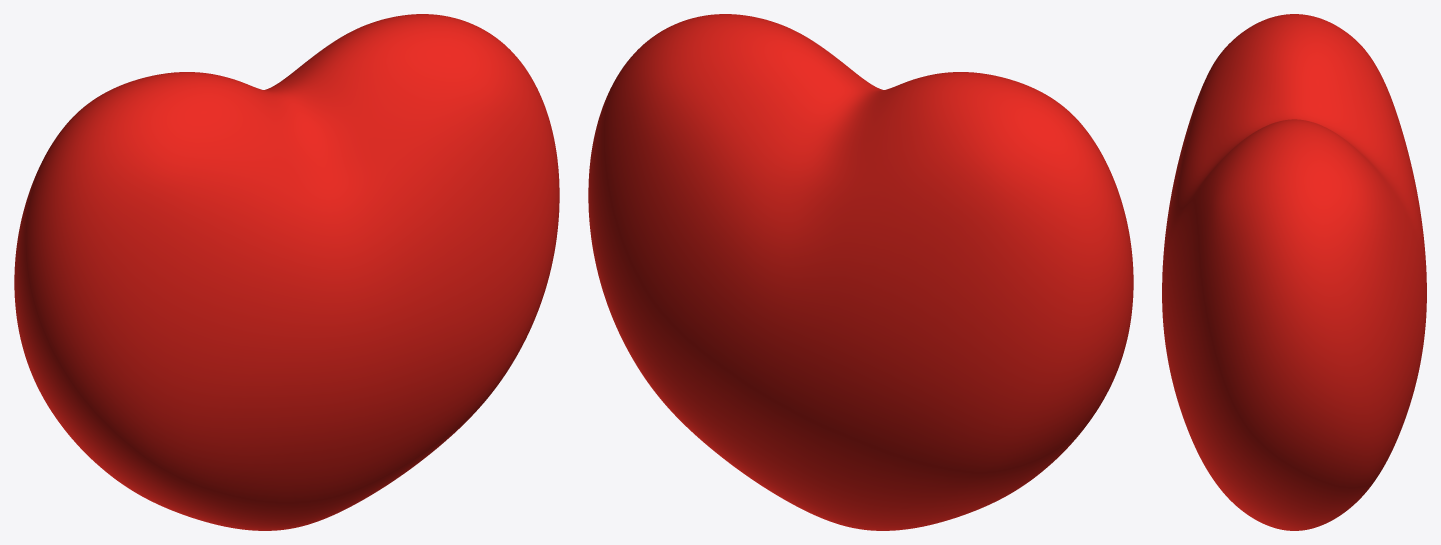
File: heart.glb
The picture shows the model from 3 angles, left to right: view 1: azimuth 30°, elevation 25°; view 2: azimuth 150°, elevation 25°; view 3: azimuth 270°, elevation 25°; orthographic projection. The views are drawn at different scales.
Parts seen in each view (by area): view 1: Heart; view 2: Heart; view 3: Heart.
Boxes of the visible parts, box(x1,y1,x2,y2) form: Heart: box(14, 14, 559, 530); Heart: box(588, 14, 1133, 530); Heart: box(1162, 14, 1426, 530).
Size of the model in its own units: 1.97 by 1.7 by 0.9396.
